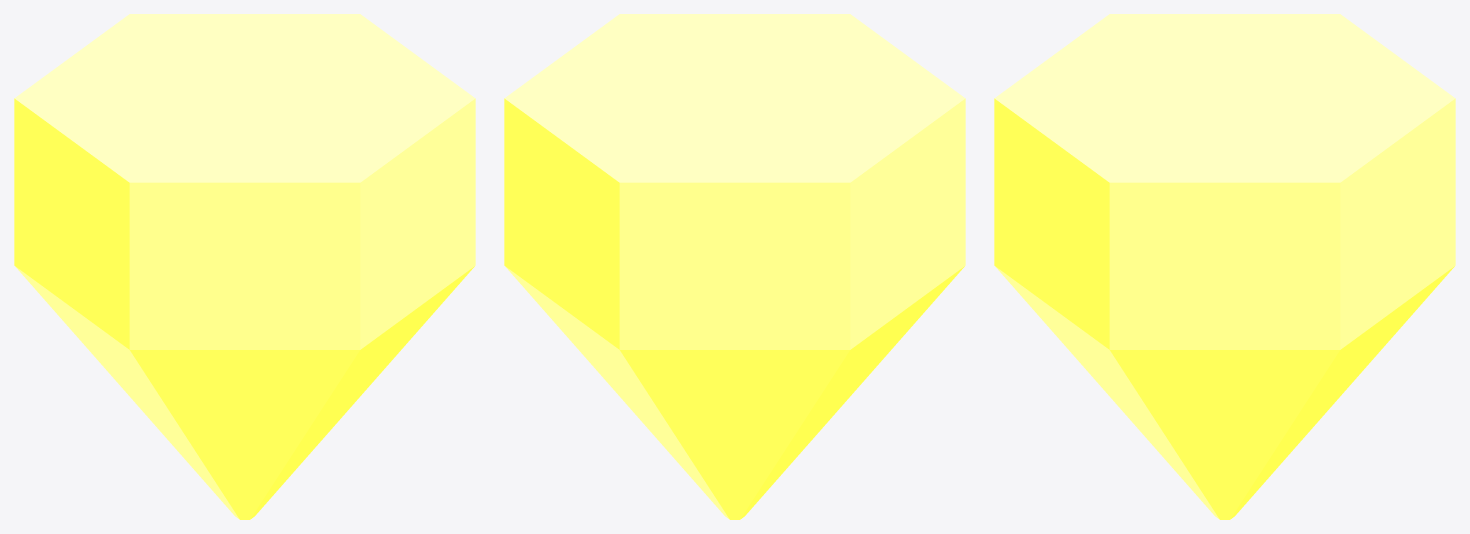
The model's file is Floating_Platform_Crystal.fbx.
3 views of the same model, side by side, from view 1: azimuth 30°, elevation 25°; view 2: azimuth 150°, elevation 25°; view 3: azimuth 270°, elevation 25° (orthographic).
Parts seen in each view (by area): view 1: Floating_Platform_Crystal; view 2: Floating_Platform_Crystal; view 3: Floating_Platform_Crystal.
Boxes of the visible parts, x1,y1,x2,y2 form: Floating_Platform_Crystal: (14,14,475,519); Floating_Platform_Crystal: (504,14,965,519); Floating_Platform_Crystal: (994,14,1455,519).
Bounding box in the file's own units: 173 × 200 × 200.
